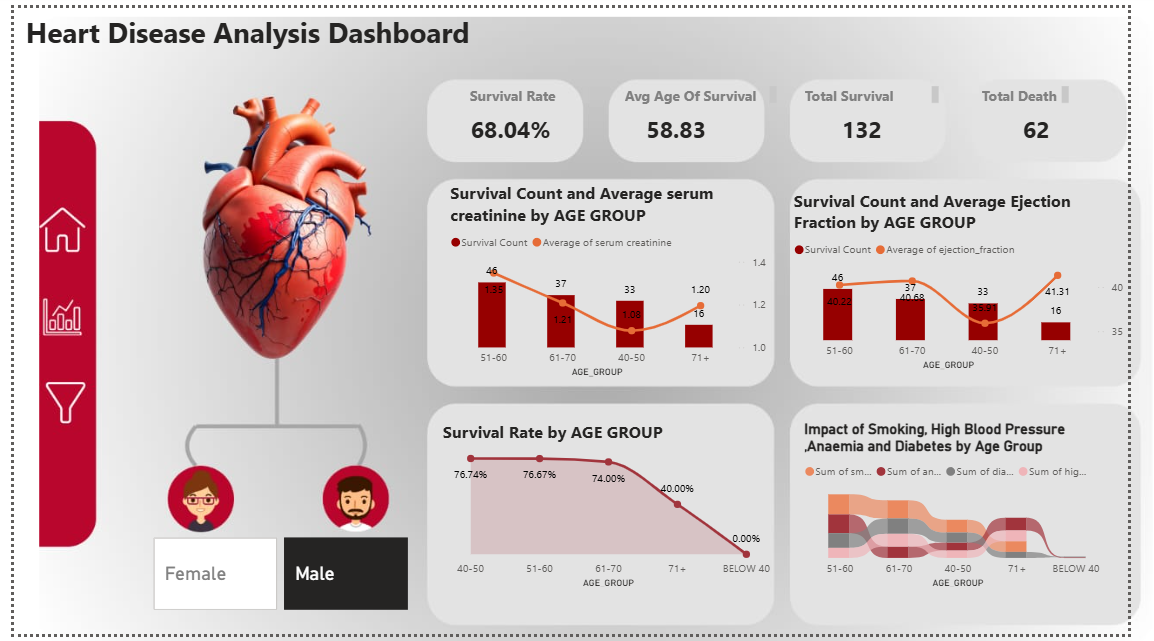

What the dashboard file says about the page in this screenshot:
{"tool":"powerbi","page":{"name":"Page 1","canvas":[1280,720],"ordinal":0},"visuals":[{"type":"textbox","box":[9.4,0,602.8,66.1],"z":0},{"type":"card","fields":{"Values":["heart_Disease_clinical_records_.Survival_Rate"]},"box":[459.3,115.3,223.7,49.2],"z":1000},{"type":"card","fields":{"Values":["heart_Disease_clinical_records_.Average_Age_Survival"]},"box":[639,115.3,242.4,49.2],"z":2000},{"type":"card","fields":{"Values":["heart_Disease_clinical_records_.Total_Surviour"]},"box":[881.4,113.6,186.4,50.8],"z":3000},{"type":"card","fields":{"Values":["heart_Disease_clinical_records_.Total_Death"]},"box":[1106.8,113.6,135.6,50.8],"z":4000},{"type":"textbox","box":[518.6,84.7,147.5,30.5],"z":5000},{"type":"textbox","box":[696.6,84.7,184.7,30.5],"z":6000},{"type":"textbox","box":[903.4,84.7,164.4,30.5],"z":7000},{"type":"textbox","box":[1106.8,84.7,110.2,30.5],"z":8000},{"type":"lineClusteredColumnComboChart","title":"Survival Count and Average serum creatinine by AGE GROUP","fields":{"Category":["heart_Disease_clinical_records_.AGE_GROUP"],"Y":["CountNonNull(heart_Disease_clinical_records_.DEATH_EVENT)"],"Y2":["Avg(heart_Disease_clinical_records_.serum_creatinine)"]},"box":[496.6,200,372.9,228.8],"z":9000},{"type":"lineClusteredColumnComboChart","title":"Survival Count and Average Ejection Fraction by AGE GROUP","fields":{"Category":["heart_Disease_clinical_records_.AGE_GROUP"],"Y":["CountNonNull(heart_Disease_clinical_records_.DEATH_EVENT)1"],"Y2":["Avg(heart_Disease_clinical_records_.ejection_fraction)"]},"box":[891.5,208.5,388.1,211.9],"z":10000},{"type":"lineChart","title":"Survival Rate by AGE GROUP","fields":{"Category":["heart_Disease_clinical_records_.AGE_GROUP"],"Y":["heart_Disease_clinical_records_.Survival_Rate"]},"box":[488.1,474.6,393.2,196.6],"z":11000},{"type":"ribbonChart","title":"Impact of Smoking, High Blood Pressure ,Anaemia and Diabetes by Age Group ","fields":{"Category":["heart_Disease_clinical_records_.AGE_GROUP"],"Y":["Sum(heart_Disease_clinical_records_.smoking)","Sum(heart_Disease_clinical_records_.anaemia)","Sum(heart_Disease_clinical_records_.diabetes)","Sum(heart_Disease_clinical_records_.high_blood_pressure)"]},"box":[903.4,474.6,362.7,196.6],"z":12000},{"type":"advancedSlicerVisual","fields":{"Values":["heart_Disease_clinical_records_.Gender"]},"box":[155.9,603.4,303.4,93.2],"z":13000}]}

Visuals, with their boxes in screenshot pixels (x1, y1, x2, y2), scaled from the page's 1280x720 canvas onto the 1154x641 screenshot:
textbox: 8:0:552:59
card - heart_Disease_clinical_records_.Survival_Rate: 414:103:616:146
card - heart_Disease_clinical_records_.Average_Age_Survival: 576:103:795:146
card - heart_Disease_clinical_records_.Total_Surviour: 795:101:963:146
card - heart_Disease_clinical_records_.Total_Death: 998:101:1120:146
textbox: 468:75:601:103
textbox: 628:75:795:103
textbox: 814:75:963:103
textbox: 998:75:1097:103
"Survival Count and Average serum creatinine by AGE GROUP" lineClusteredColumnComboChart: 448:178:784:382
"Survival Count and Average Ejection Fraction by AGE GROUP" lineClusteredColumnComboChart: 804:186:1153:374
"Survival Rate by AGE GROUP" lineChart: 440:423:795:598
"Impact of Smoking, High Blood Pressure ,Anaemia and Diabetes by Age Group " ribbonChart: 814:423:1141:598
advancedSlicerVisual - heart_Disease_clinical_records_.Gender: 141:537:414:620
